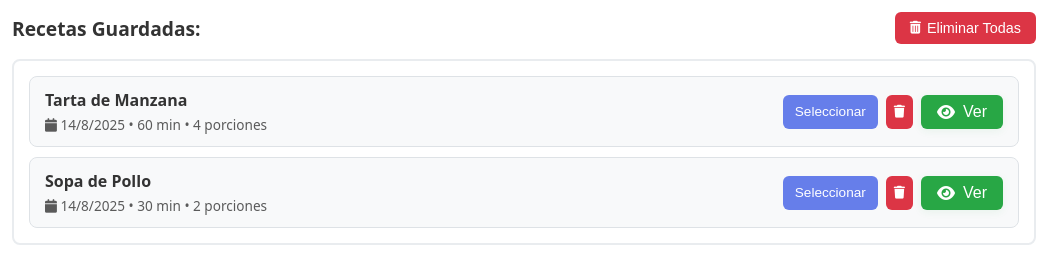
Test: Integración: SavedRecipesList.vue › debe eliminar una receta del store cuando se hace clic en su botón de eliminar
Step 1. Click the button named "Eliminar receta Tarta de Manzana" → coordinates (899, 112), box [886,94,913,128]
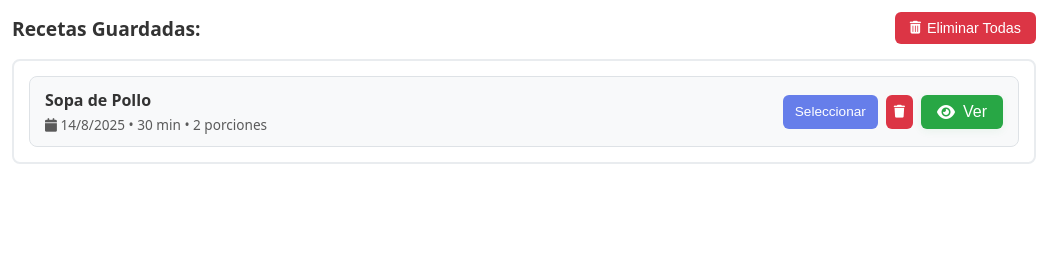
Check: the number of list items with class "recipe-item" is 1, box [29,76,1019,147]
